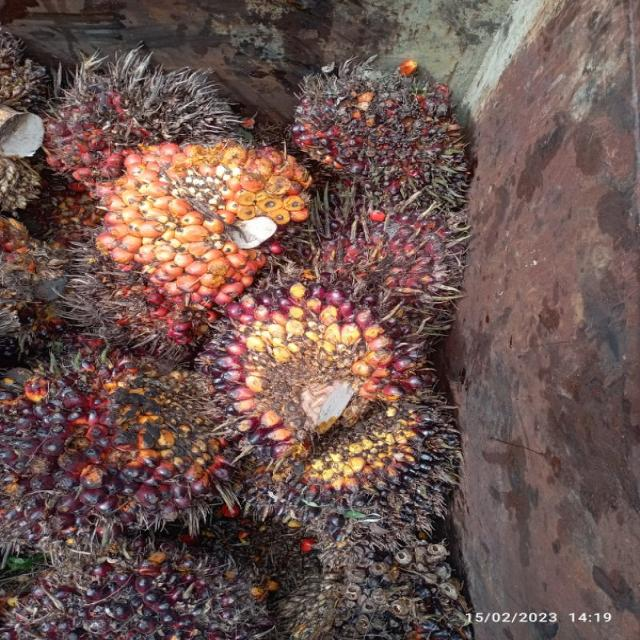fraksi 00: (184, 276, 454, 472), (250, 383, 497, 573), (15, 527, 291, 640)
fraksi 1: (0, 307, 242, 549), (294, 37, 520, 226), (26, 34, 248, 204), (305, 196, 501, 355)
fraksi 4: (82, 129, 324, 303)
